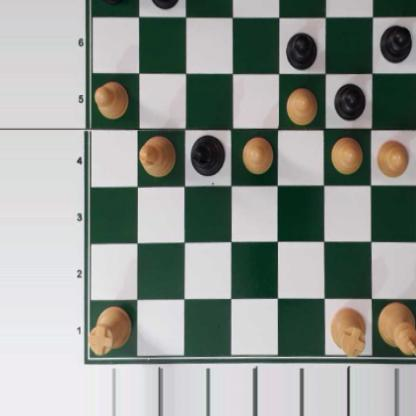black-bishop: (189, 134, 226, 176)
black-pawn: (284, 30, 317, 70), (380, 22, 412, 63), (334, 80, 366, 121), (148, 0, 182, 10), (92, 0, 128, 5)
white-bishop: (139, 134, 175, 176)
white-king: (377, 300, 416, 357)
white-pawn: (376, 137, 409, 178), (283, 86, 318, 124), (94, 80, 129, 118), (330, 134, 363, 174), (241, 136, 273, 173)
white-rook: (89, 304, 133, 353), (328, 306, 367, 356)
